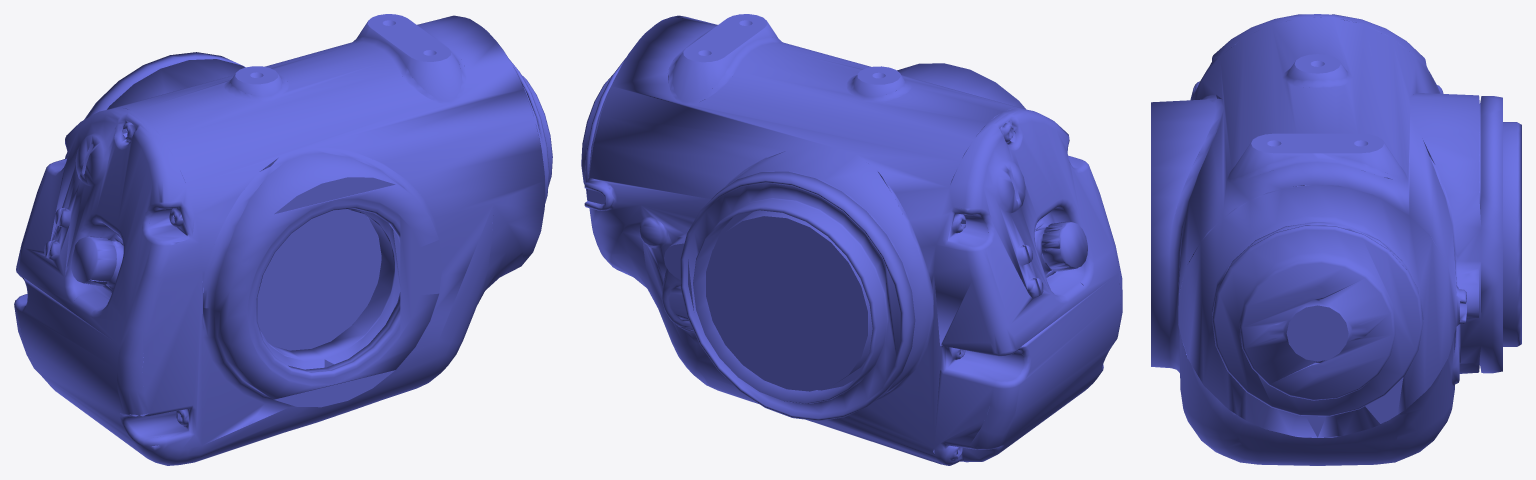
3 views of the same model, side by side, from view 1: azimuth 30°, elevation 25°; view 2: azimuth 150°, elevation 25°; view 3: azimuth 270°, elevation 25° (orthographic). The views are drawn at different scales.
Parts seen in each view (by area): view 1: gp4_link_3_u; view 2: gp4_link_3_u; view 3: gp4_link_3_u.
Part boxes in pixels (x1,y1,x2,y2): gp4_link_3_u: (14,14,552,465); gp4_link_3_u: (581,14,1122,465); gp4_link_3_u: (1151,14,1521,465).
Bounding box in the file's own units: 0.194 × 0.128 × 0.1317.
